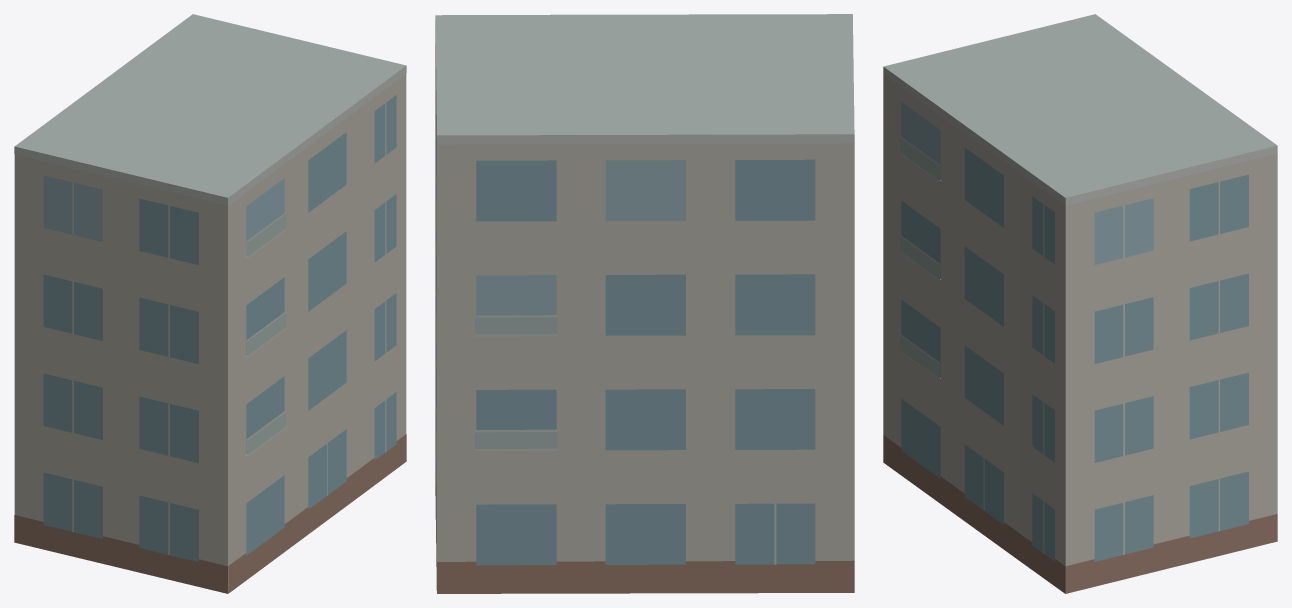
The model's file is residential-f76f8f77-b1ee-4f18-b028-c9285455faa8.glb.
The picture shows the model from 3 angles, left to right: view 1: azimuth 30°, elevation 25°; view 2: azimuth 150°, elevation 25°; view 3: azimuth 270°, elevation 25°; orthographic projection. The views are drawn at different scales.
Parts seen in each view (by area): view 1: residential-f76f8f77-b1ee-4f18-b028-c9285455faa8.tmp; view 2: residential-f76f8f77-b1ee-4f18-b028-c9285455faa8.tmp; view 3: residential-f76f8f77-b1ee-4f18-b028-c9285455faa8.tmp.
Part boxes in pixels (bbox=[...]): residential-f76f8f77-b1ee-4f18-b028-c9285455faa8.tmp: bbox=[14, 14, 406, 593]; residential-f76f8f77-b1ee-4f18-b028-c9285455faa8.tmp: bbox=[435, 14, 854, 593]; residential-f76f8f77-b1ee-4f18-b028-c9285455faa8.tmp: bbox=[883, 14, 1277, 593].
Size of the model in its own units: 12.16 by 12.2 by 11.02.
